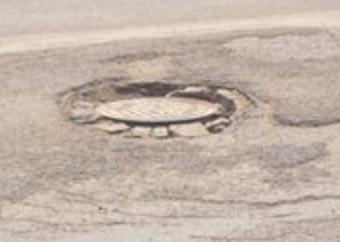wellcover: (77, 75, 246, 143)
